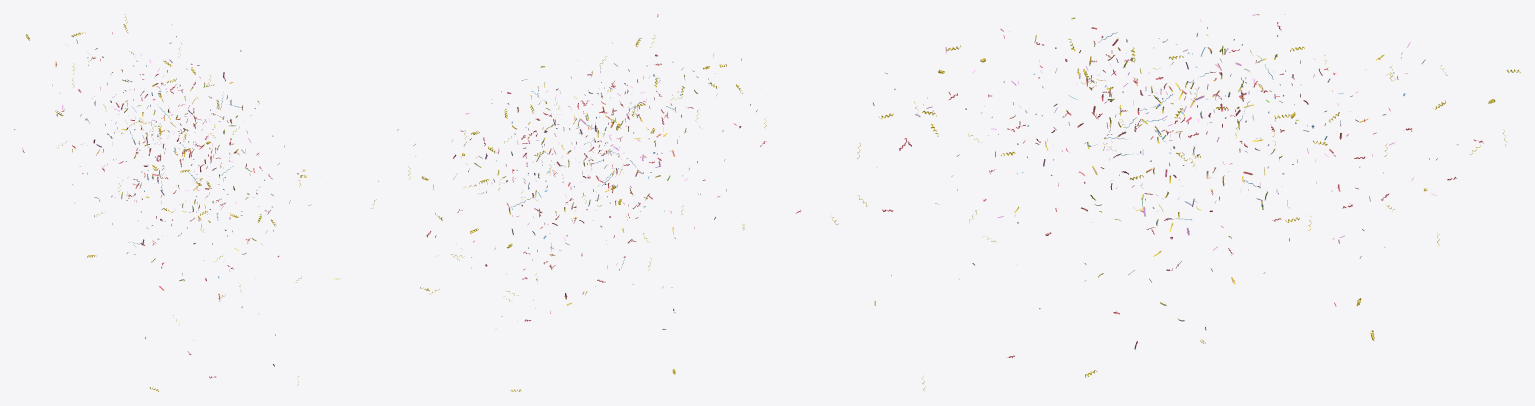
The model's file is Konfetti.glb.
3 renders of one model, left to right at view 1: azimuth 30°, elevation 25°; view 2: azimuth 150°, elevation 25°; view 3: azimuth 270°, elevation 25°, orthographic. The views are drawn at different scales.
Visible parts, largest first — view 1: Sweep_5.004; view 2: Sweep_5.004; view 3: Sweep_5.004.
Boxes of the visible parts, left/top/right/bottom form: Sweep_5.004: left=14, top=14, right=341, bottom=391; Sweep_5.004: left=371, top=14, right=801, bottom=391; Sweep_5.004: left=831, top=14, right=1520, bottom=390.
Size of the model in its own units: 4.28 by 4.83 by 8.35.
